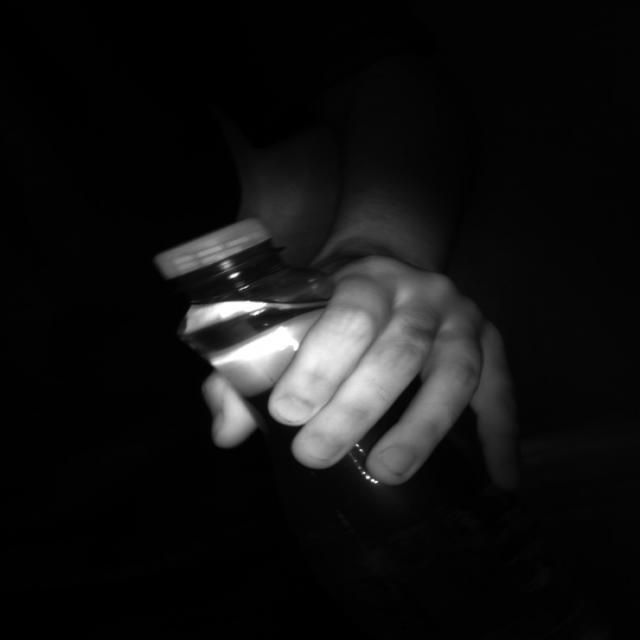Not Good: (157, 217, 284, 291)
